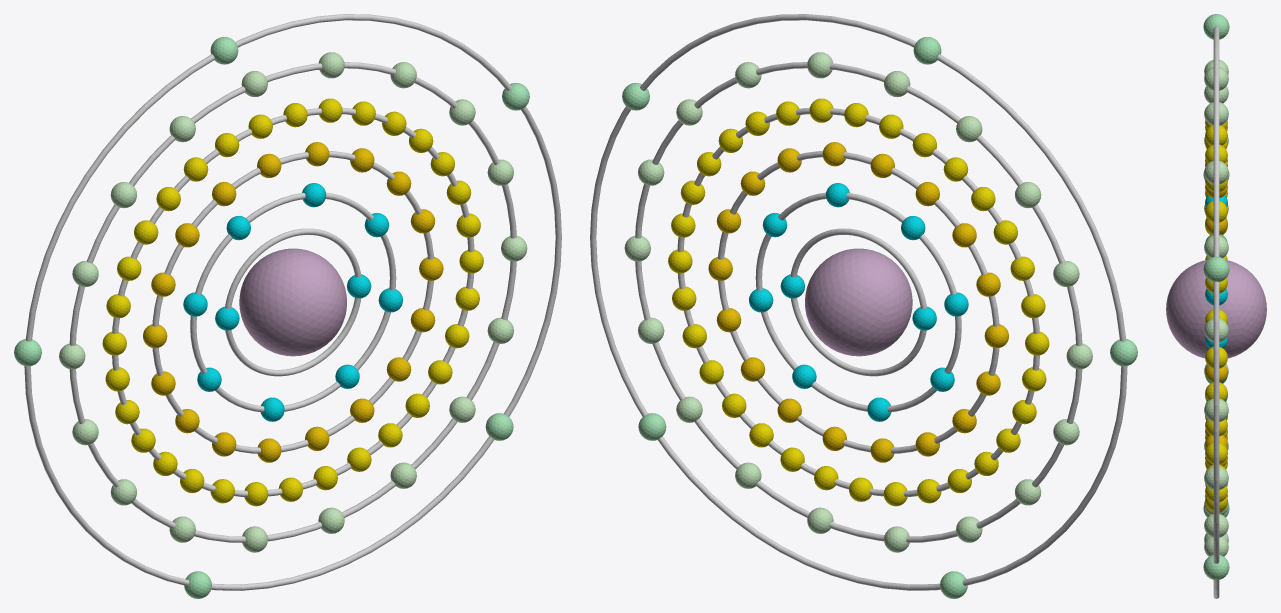
3 views of the same model, side by side, from view 1: azimuth 30°, elevation 25°; view 2: azimuth 150°, elevation 25°; view 3: azimuth 270°, elevation 25° (orthographic). The views are drawn at different scales.
Visible parts, largest first — view 1: world; view 2: world; view 3: world.
Part boxes in pixels (box(x1,y1,x2,y2)): world: box(14, 14, 561, 598); world: box(590, 14, 1137, 598); world: box(1166, 14, 1266, 598).
Bounding box in the file's own units: 2.57 × 2.53 × 0.44.
